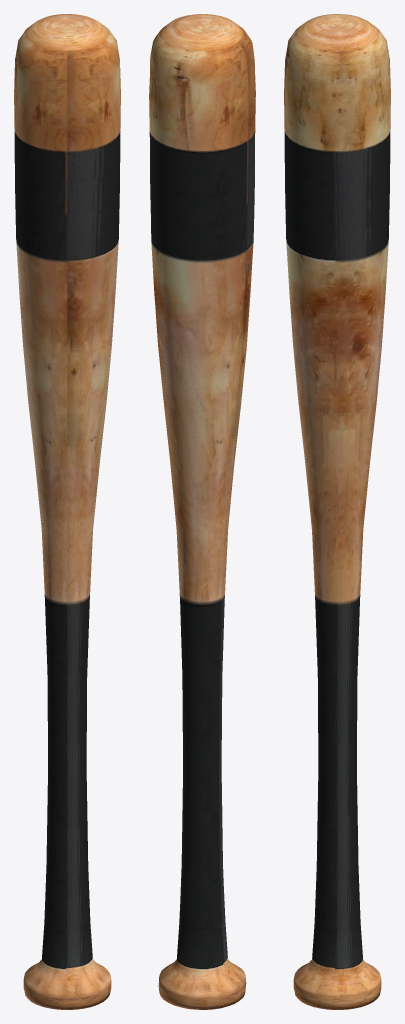
Rendered from BaseballBat.DAE.
3 views of the same model, side by side, from view 1: azimuth 90°, elevation 25°; view 2: azimuth 150°, elevation 25°; view 3: azimuth 270°, elevation 25° (orthographic).
Visible parts, largest first — view 1: BaseballBat; view 2: BaseballBat; view 3: BaseballBat.
Part boxes in pixels (<box>): BaseballBat: <box>14,14,120,1009</box>; BaseballBat: <box>149,14,255,1009</box>; BaseballBat: <box>284,14,390,1009</box>.
Size of the model in its own units: 2.24 by 2.24 by 22.3.
